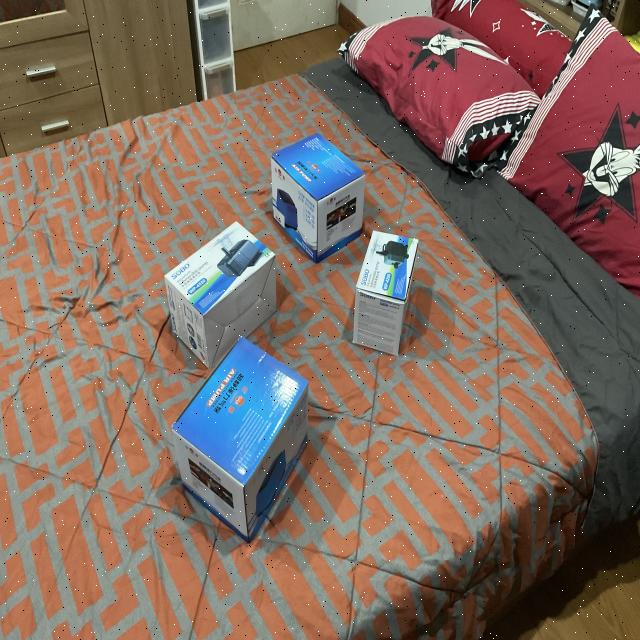SOBO_WP_4200: (160, 214, 284, 358), (349, 230, 434, 376)
YAMANO_LPP_20: (165, 340, 332, 561), (262, 125, 369, 264)
